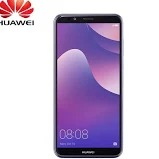huawei: (51, 11, 126, 157)
